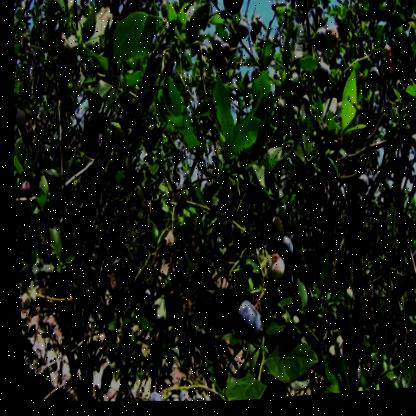intermediate: (321, 340, 341, 367), (160, 234, 174, 252), (20, 181, 31, 199), (224, 48, 233, 64)
mature: (228, 298, 261, 347), (206, 1, 247, 20), (313, 67, 332, 94), (274, 240, 291, 265), (211, 43, 224, 73), (314, 33, 328, 57), (366, 73, 381, 91), (122, 174, 136, 193), (236, 24, 249, 43), (276, 278, 289, 297), (55, 49, 68, 68), (143, 389, 156, 405), (142, 367, 154, 381)
young: (260, 257, 282, 287), (380, 54, 395, 90), (325, 33, 341, 59), (13, 111, 27, 133), (268, 221, 282, 242), (56, 32, 68, 50)
